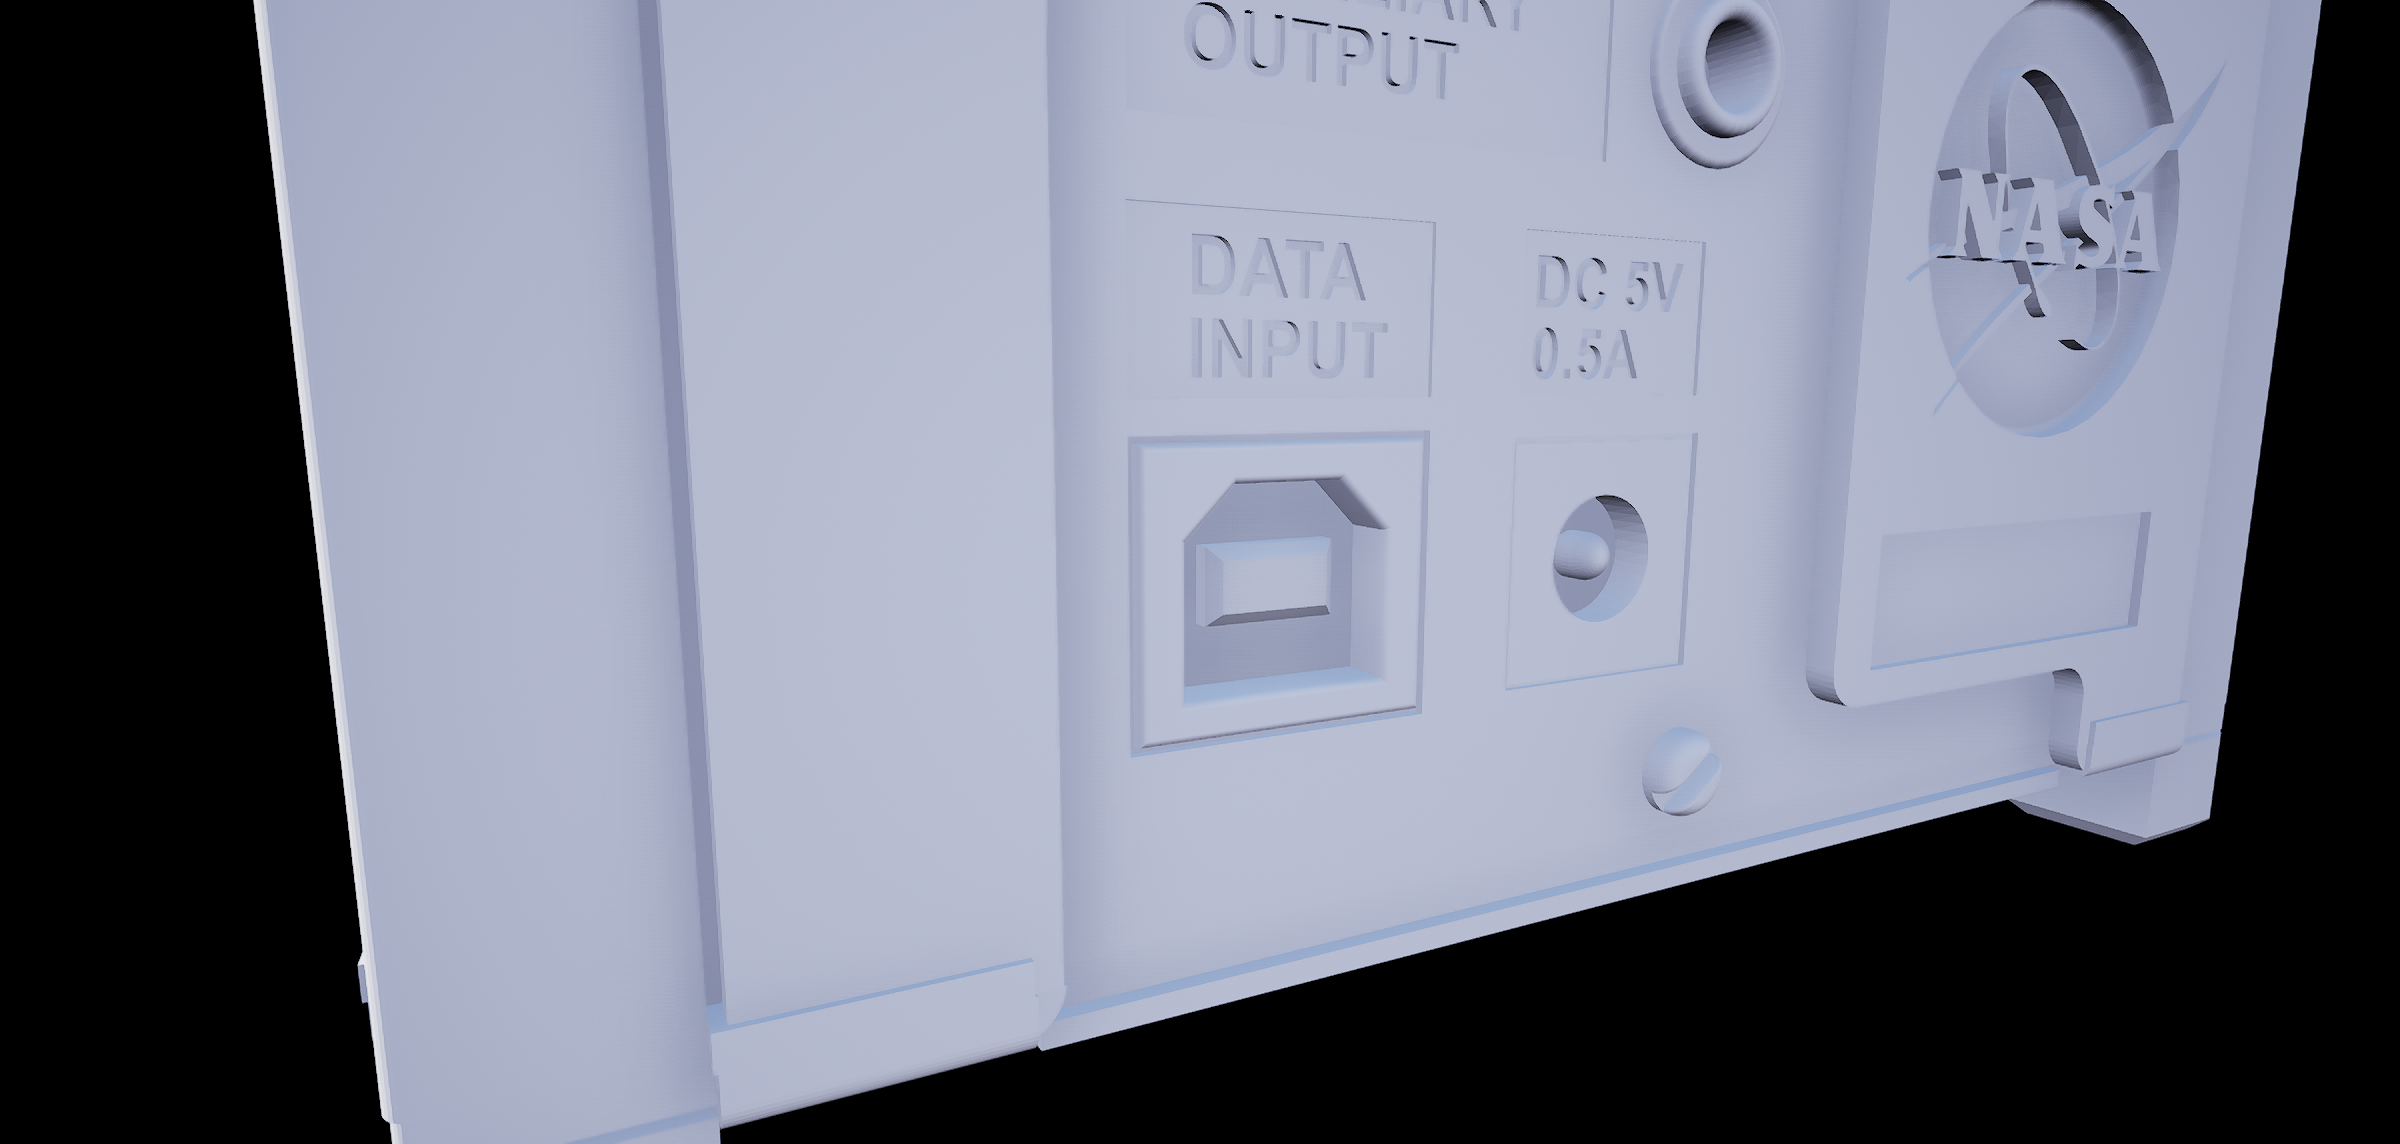aux: (1638, 2, 1792, 185)
dc: (1544, 495, 1656, 622)
usb: (1177, 461, 1407, 701)
